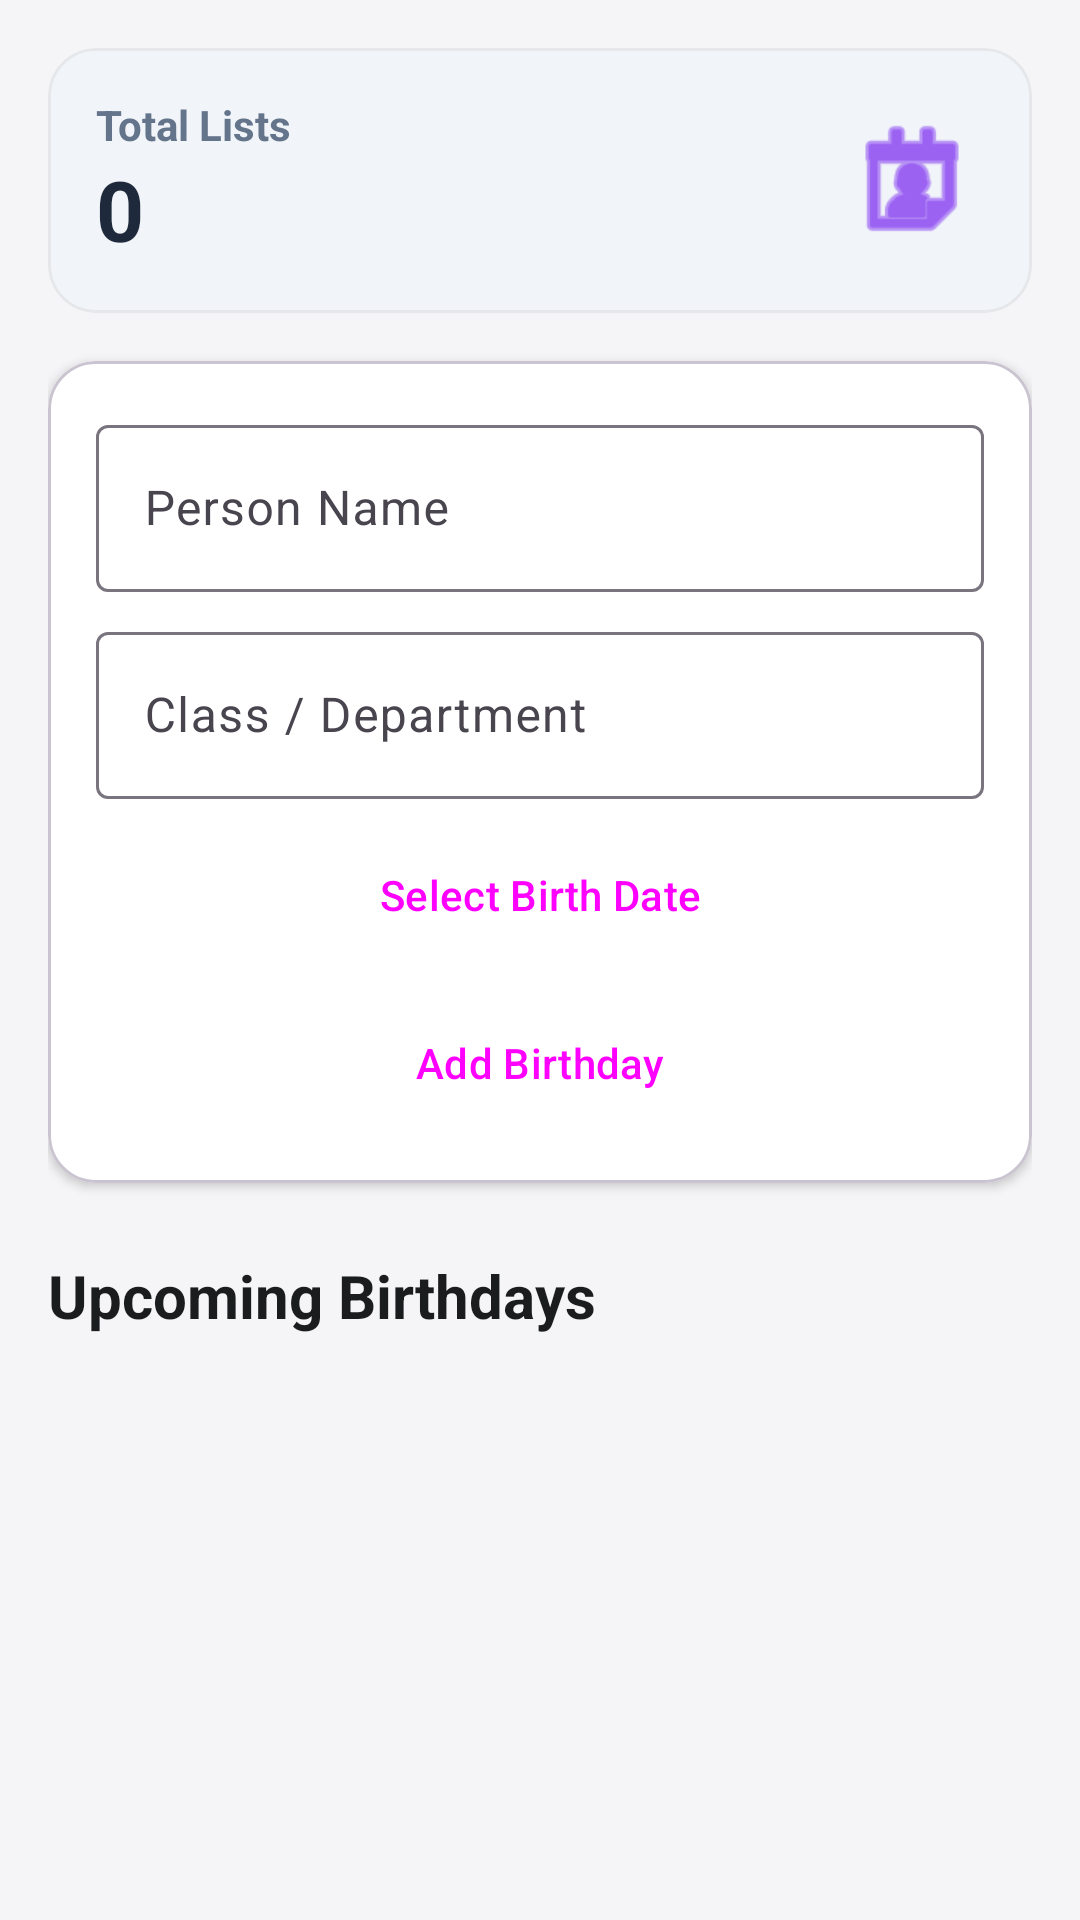

Icons on this 1080×1920 Android screen, each with its box as (x1, y1, x2, y2):
calendar: (865, 126, 959, 231)
